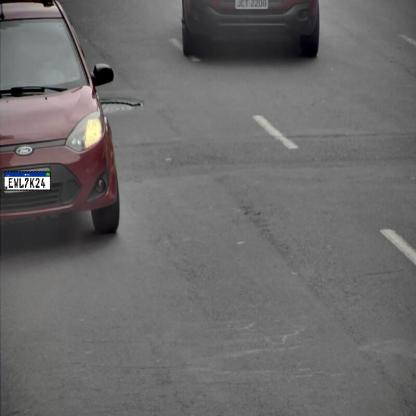PlacaM: (4, 171, 51, 191)
